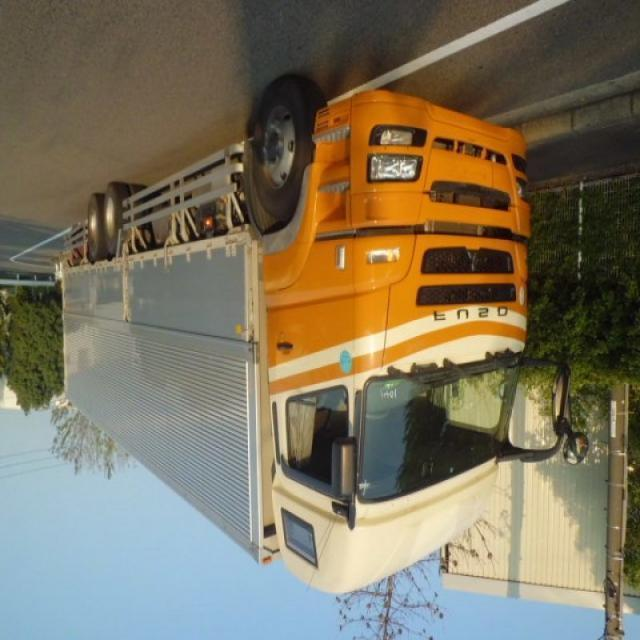truck: (65, 70, 572, 596)
